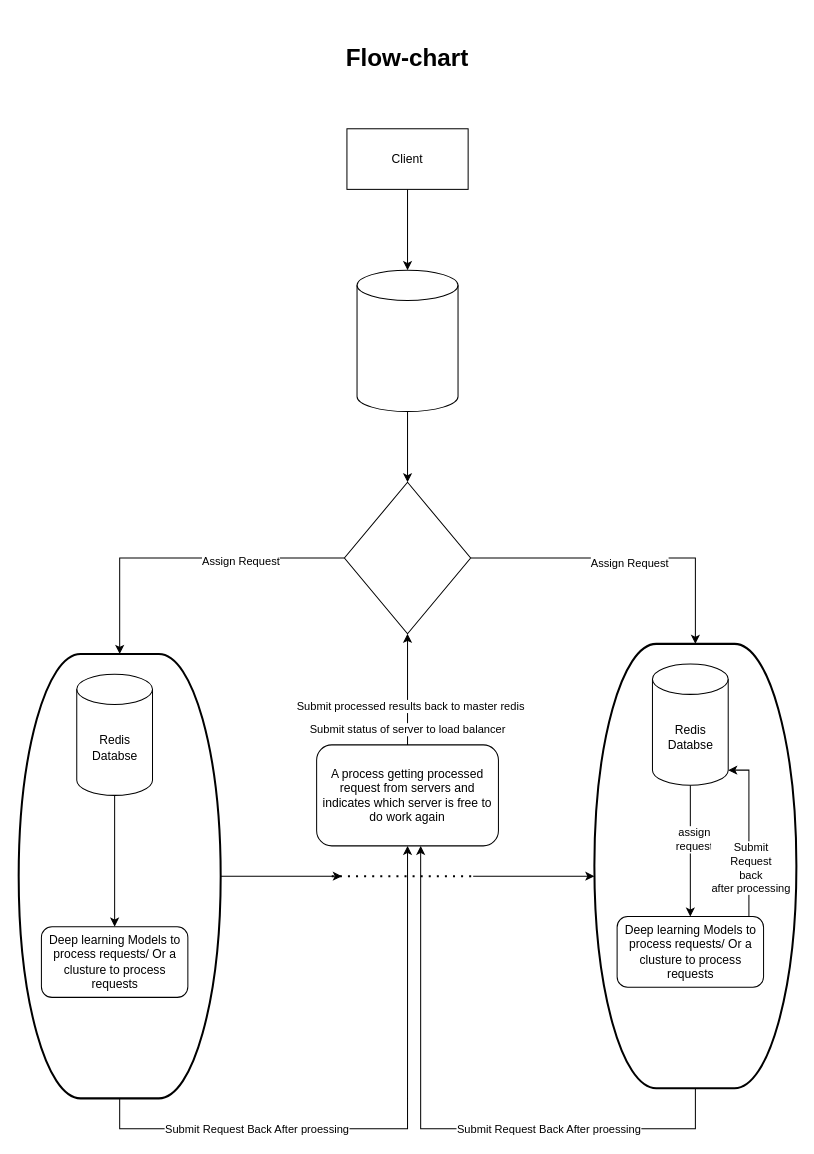
Image size: 814x1154. Some labels were removed from this diagram. Here are the shapes that lost their labels. From the top down, the centre of each, then its label:
At [407,340]: "Redis Database".
At [407,557]: "Load Balancer".
